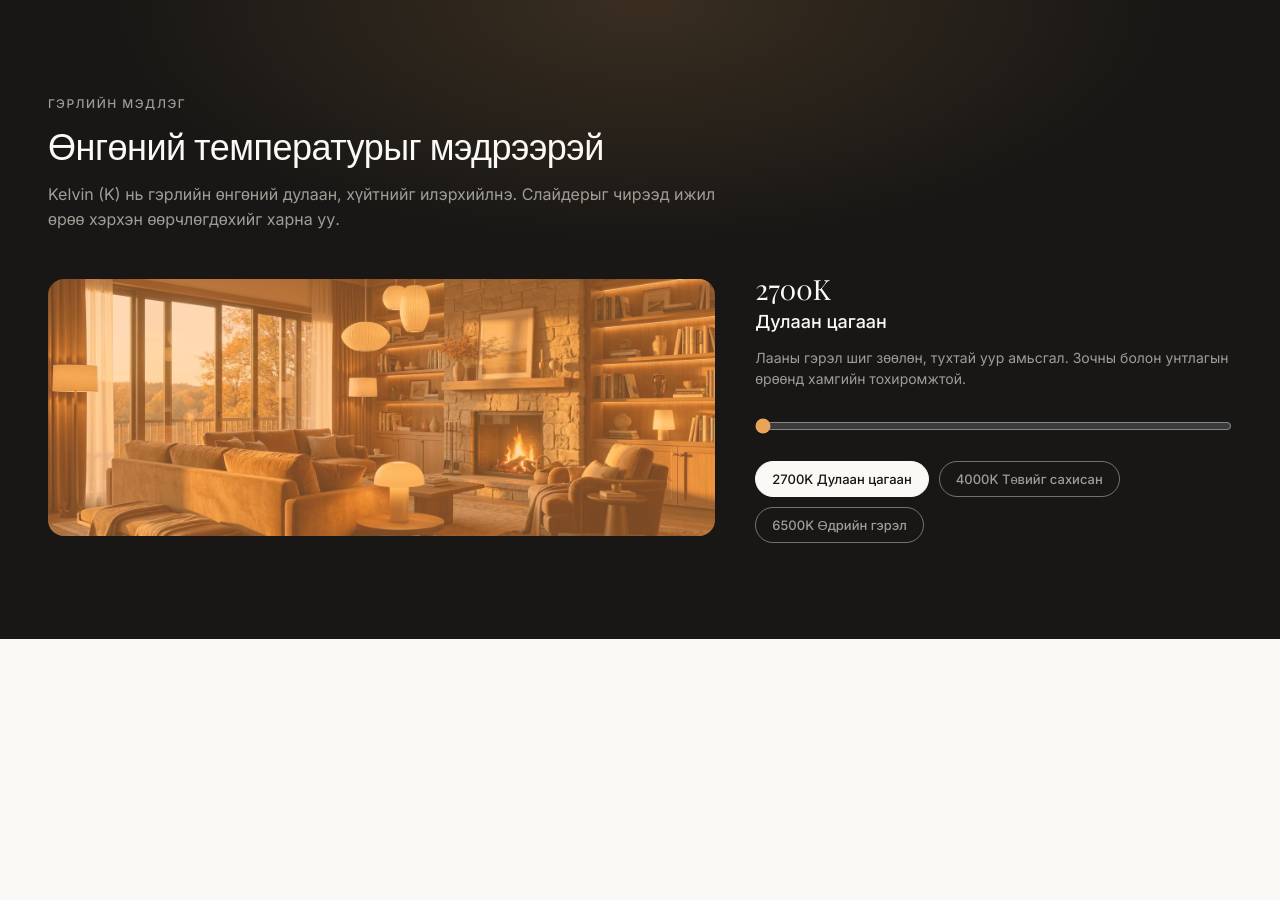
Scenario: KelvinDemo › слайдер чирэхэд шошго ба утга шинэчлэгдэнэ
The width and height of the screenshot is (1280, 900).
Set the slider to "6500". click: [1224, 426]
box: [755, 418, 1232, 434]
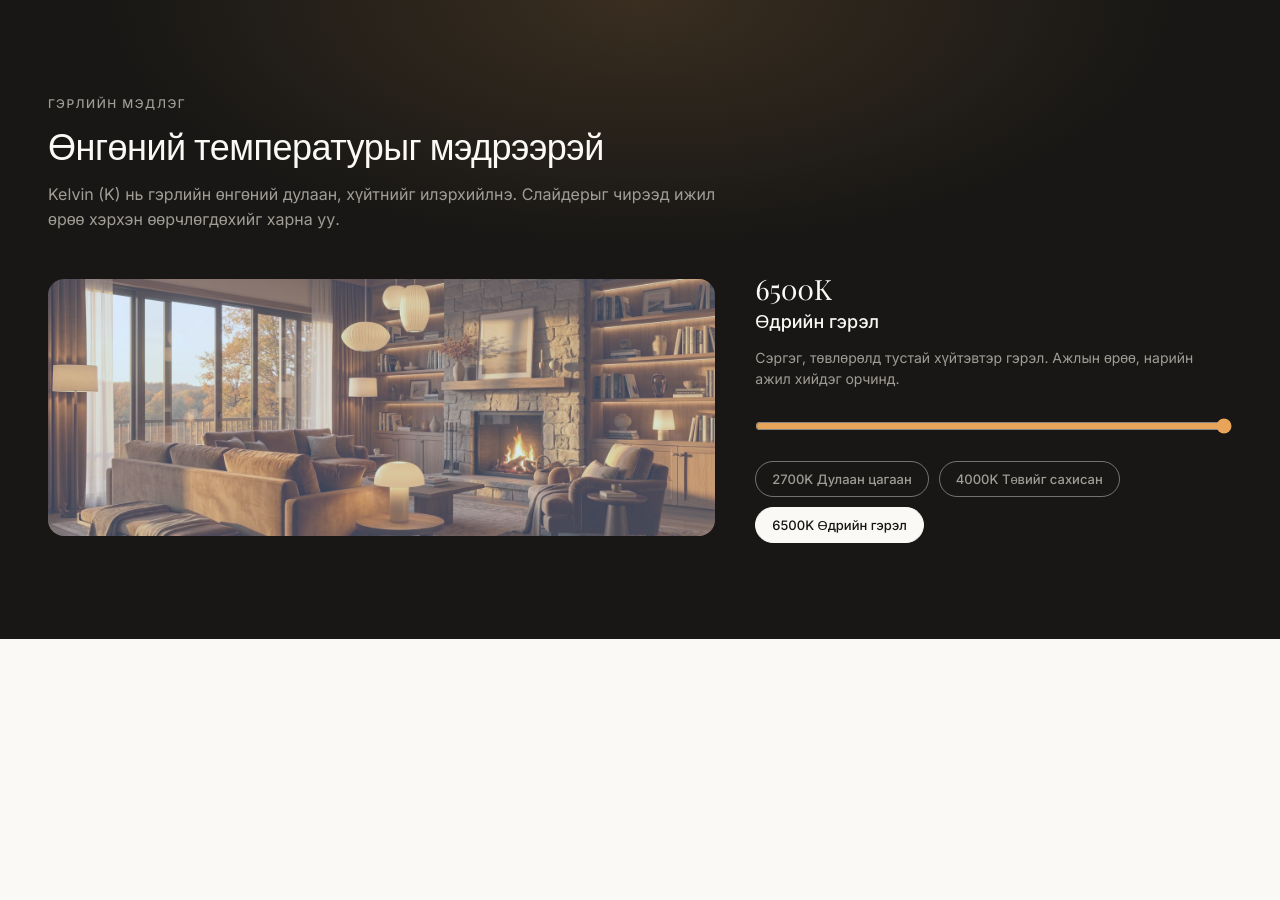
Now the text "6500K" is shown, box [755, 270, 832, 307]
Now the text "Өдрийн гэрэл" is shown, box [755, 311, 879, 332]
